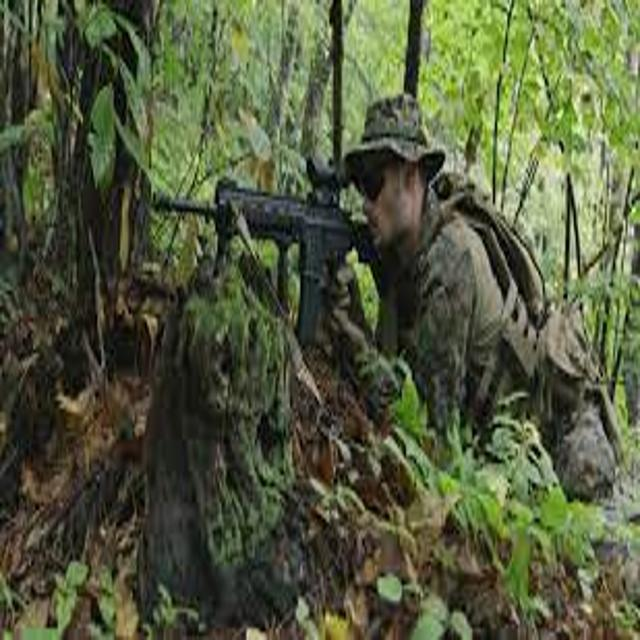gun: (87, 156, 449, 374)
poacher: (199, 70, 640, 551)
